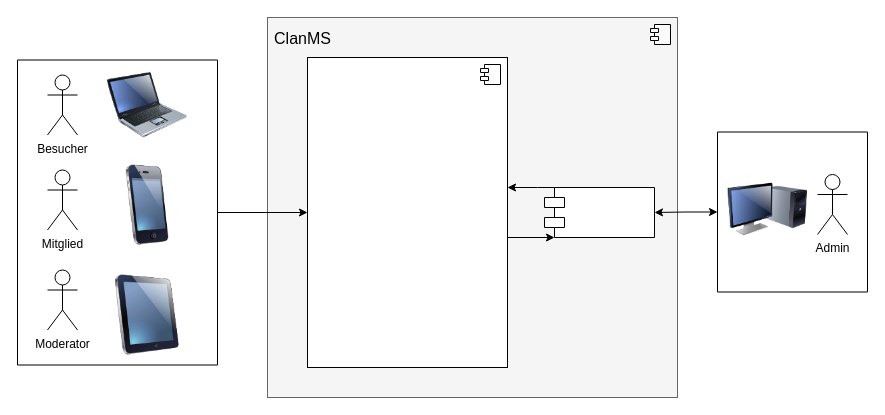
Some shapes in this 885 by 415 pixel diagram are drawn without their labels. The centre of each missing label's shape, as x and y in pixels:
"Admin-GUI" goes at point (599, 212).
"«system» Homepage" goes at point (407, 212).
